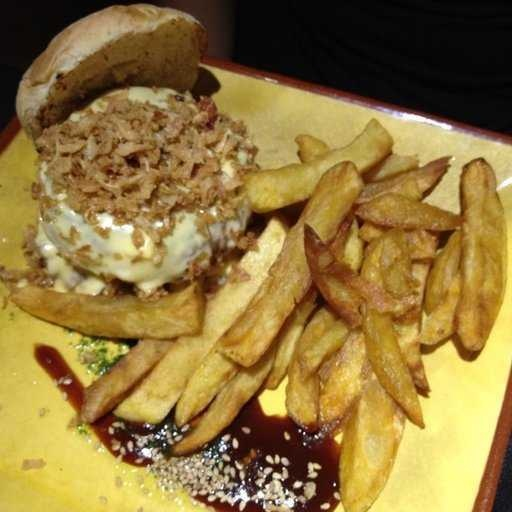hamburger: (36, 11, 233, 284)
